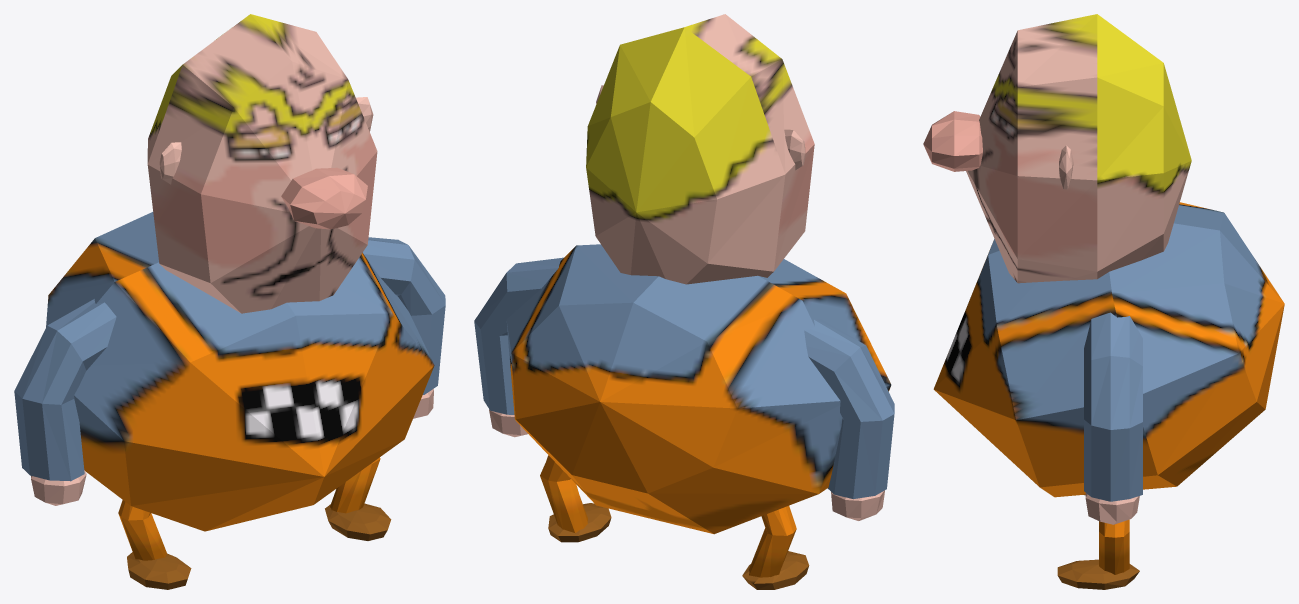
The model's file is Taximan.glb.
3 renders of one model, left to right at view 1: azimuth 30°, elevation 25°; view 2: azimuth 150°, elevation 25°; view 3: azimuth 270°, elevation 25°, orthographic. The views are drawn at different scales.
Visible parts, largest first — view 1: Taximan; view 2: Taximan; view 3: Taximan.
Part boxes in pixels (box(x1,y1,x2,y2)): Taximan: box(14, 14, 445, 589); Taximan: box(474, 14, 894, 589); Taximan: box(923, 14, 1284, 589).
Size of the model in its own units: 419 by 513 by 324.
Materials: 1 (1 with a texture image).
